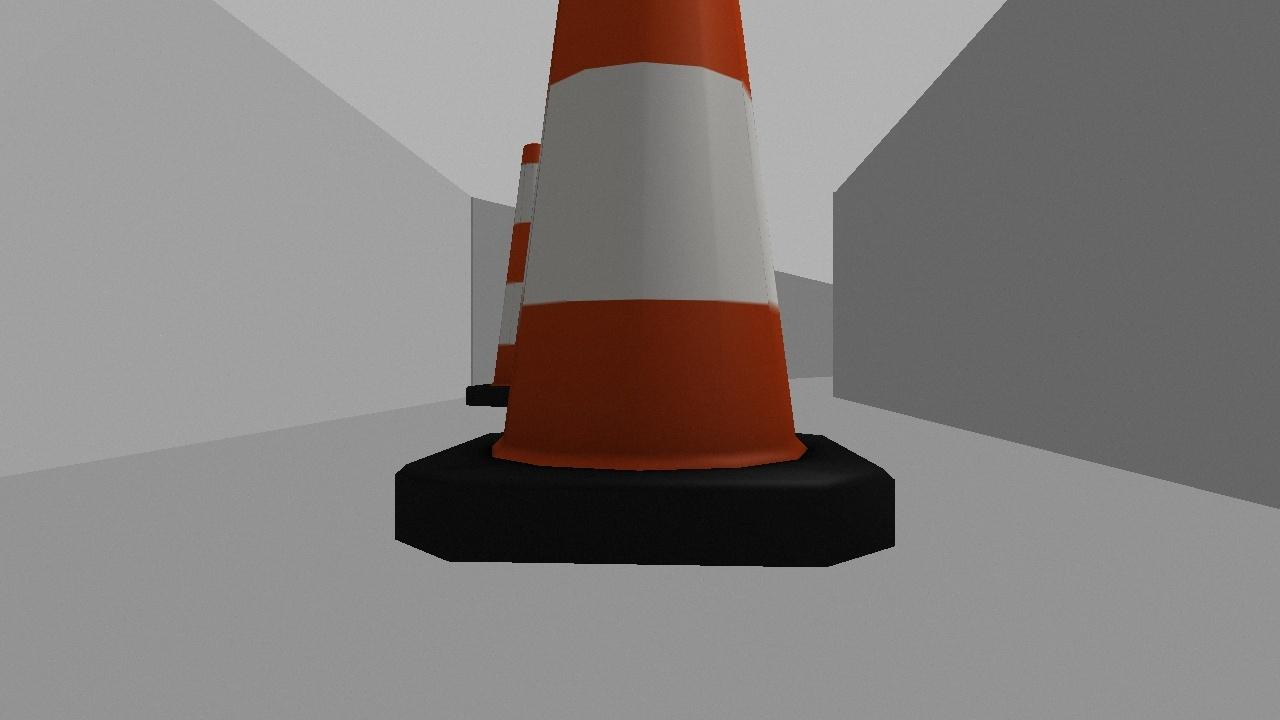cone_barrel: (364, 0, 906, 588), (450, 131, 588, 410)
